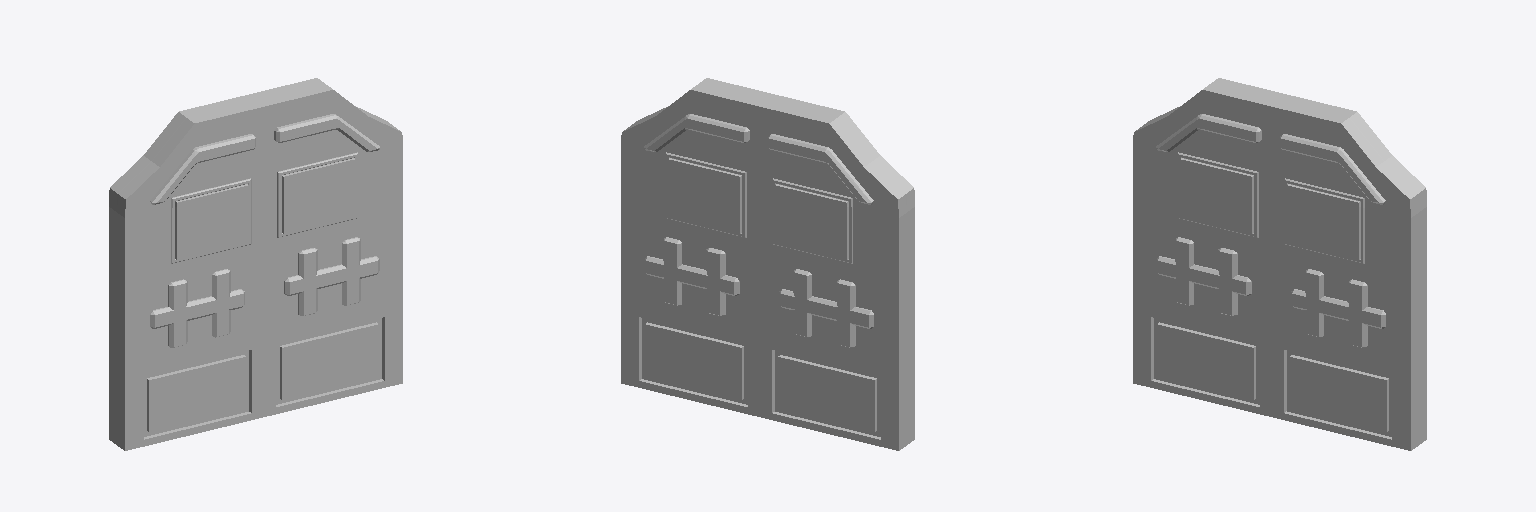
File: Doors.obj
The picture shows the model from 3 angles: view 1: azimuth 30°, elevation 25°; view 2: azimuth 150°, elevation 25°; view 3: azimuth 330°, elevation 25°; orthographic projection.
Parts seen in each view (by area): view 1: polySurface342, polySurface329; view 2: polySurface342, polySurface329; view 3: polySurface329, polySurface342.
Boxes of the visible parts, x1=… form: polySurface342: x1=109, y1=95, x2=263, y2=450; polySurface329: x1=249, y1=78, x2=402, y2=416; polySurface342: x1=760, y1=95, x2=914, y2=450; polySurface329: x1=621, y1=78, x2=775, y2=416; polySurface329: x1=1271, y1=95, x2=1426, y2=450; polySurface342: x1=1133, y1=78, x2=1286, y2=416.
Bounding box in the file's own units: 21.98 × 23.44 × 3.18.